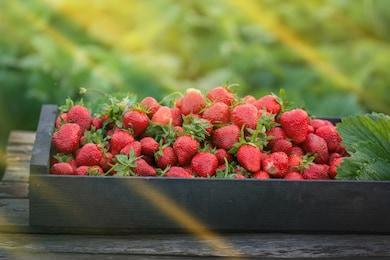Fresa: (279, 105, 310, 145), (229, 101, 266, 130), (234, 140, 266, 172), (121, 105, 151, 139), (172, 131, 201, 165), (66, 103, 97, 134), (189, 149, 222, 177), (259, 149, 292, 177), (73, 141, 107, 167), (201, 101, 235, 126), (150, 104, 176, 132), (126, 156, 160, 176), (118, 139, 147, 158)
